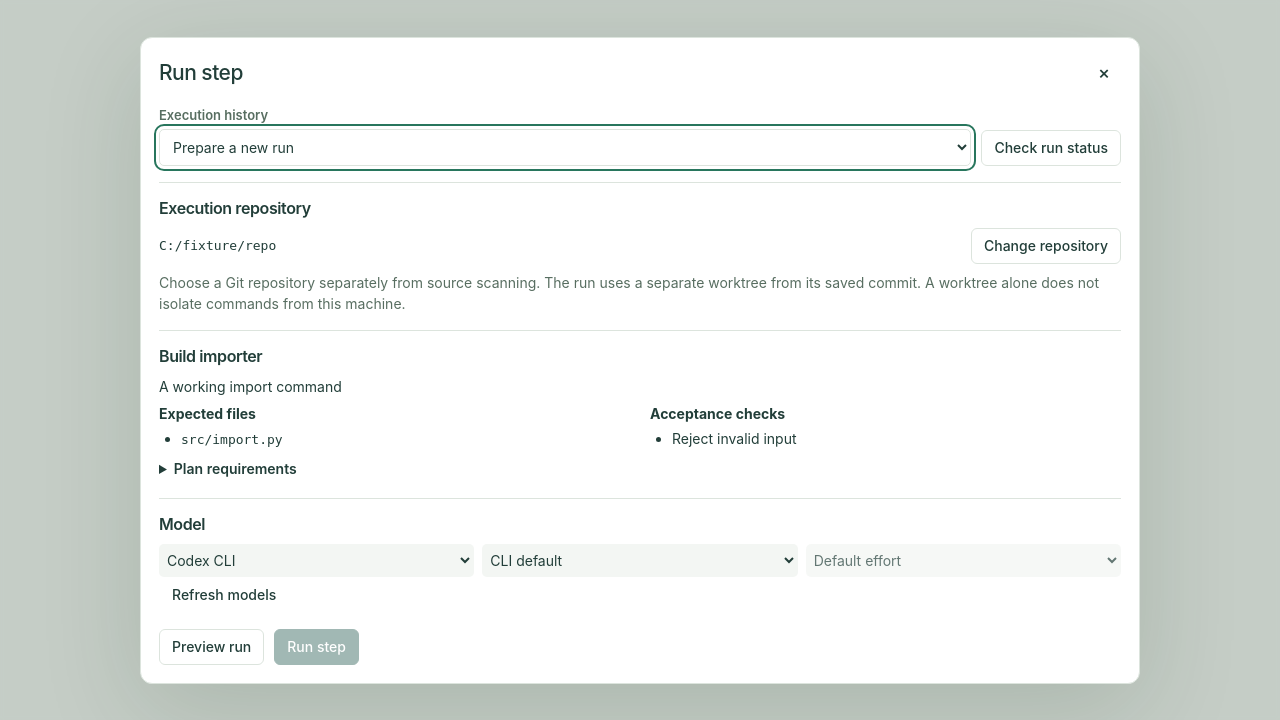
Test: execution review and explicit actions › previews saved inputs without executing and starts only the reviewed preview
This screenshot has width=1280, height=720.
Expected: the element "Execution repository" is shown, [159,182,1121,314]
Click the button "Preview run". click: (212, 646)
box: [159,628,264,664]
(page scrolled)
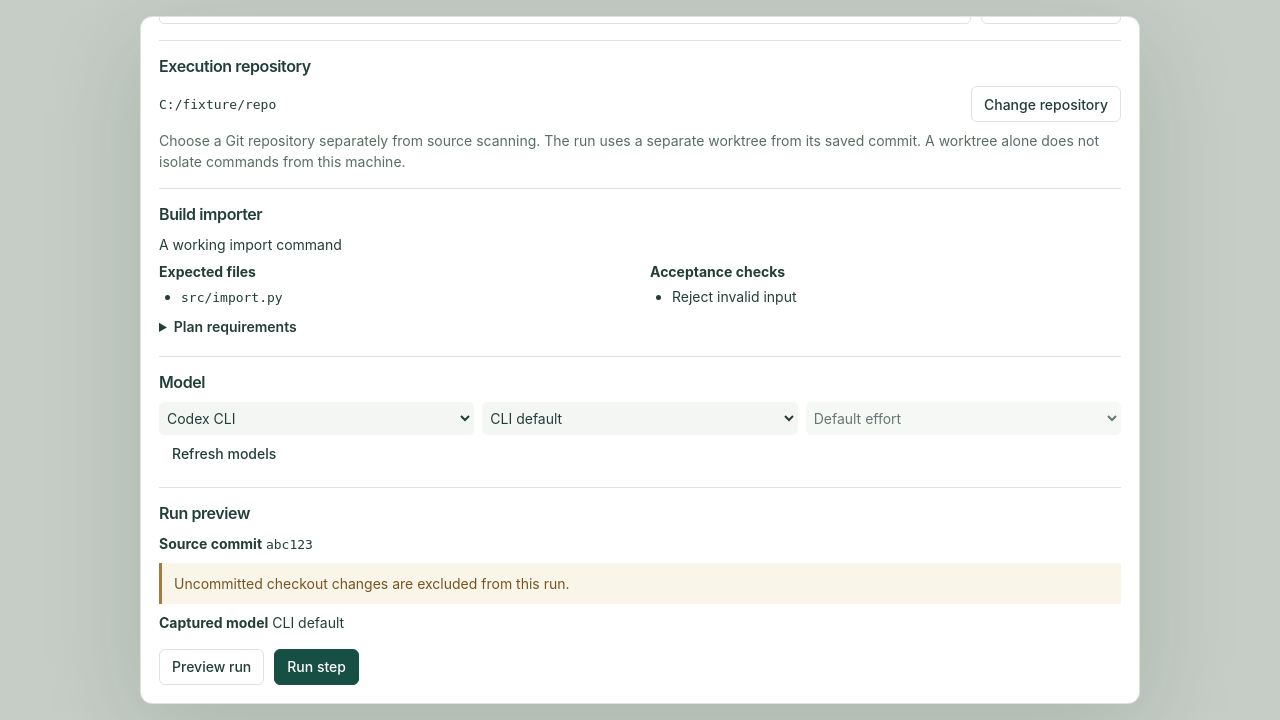
Expected: the element "Run preview" is shown, [159,487,1121,632]
Expected: the text "Uncommitted checkout changes are excluded from this run." is shown, [159,562,1121,604]
Click the button "Run step". click: (317, 666)
box: [274,648,359,684]
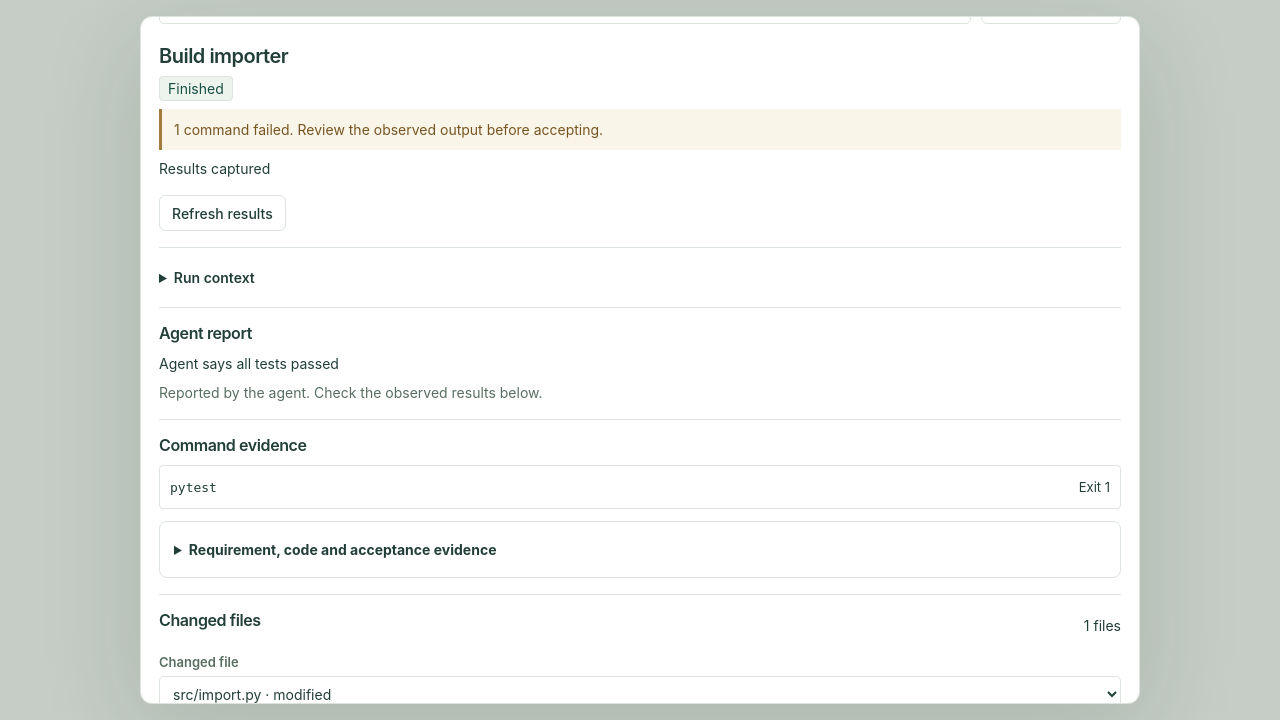
Expected: the element named "Observed commands" is shown, [159,419,1121,509]
